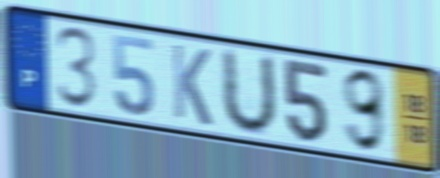3: (54, 24, 99, 111)
5: (281, 55, 331, 147), (111, 30, 157, 120)
9: (338, 67, 388, 155)
K: (169, 40, 214, 130)
U: (219, 44, 279, 138)
